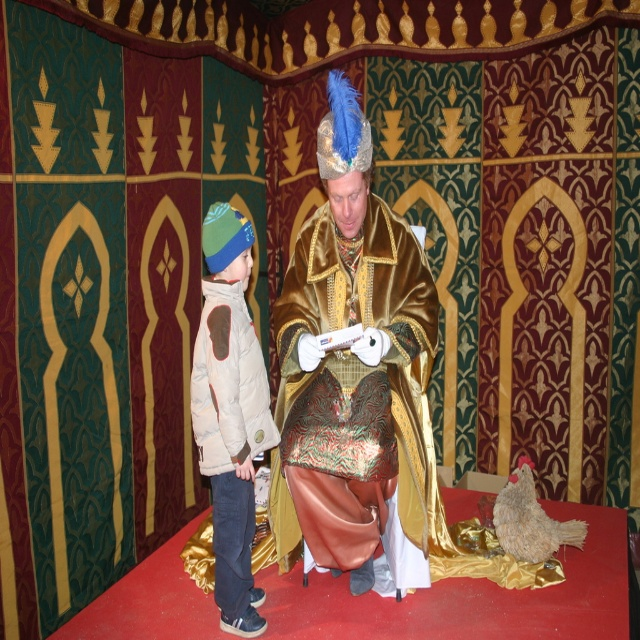Chicken: (493, 456, 589, 564)
